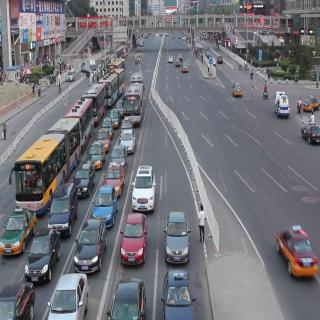BigCar: (10, 115, 81, 210), (123, 83, 145, 127), (274, 88, 290, 118)
Car: (274, 220, 319, 284), (48, 271, 88, 320), (1, 204, 38, 255), (74, 215, 105, 273), (161, 269, 196, 320), (163, 205, 191, 267), (107, 276, 146, 320), (120, 212, 149, 270), (48, 181, 76, 239), (0, 279, 39, 320), (25, 231, 57, 280), (130, 164, 158, 213), (94, 182, 117, 228), (72, 161, 95, 199), (300, 114, 320, 148), (104, 163, 124, 194), (302, 88, 320, 114), (86, 141, 104, 166), (119, 127, 137, 152), (110, 142, 127, 166), (97, 126, 110, 148), (231, 79, 243, 99), (110, 109, 120, 126), (66, 69, 77, 84), (102, 116, 112, 132), (182, 61, 190, 74), (121, 117, 130, 128), (218, 55, 224, 65), (176, 58, 182, 66), (168, 56, 174, 64)
